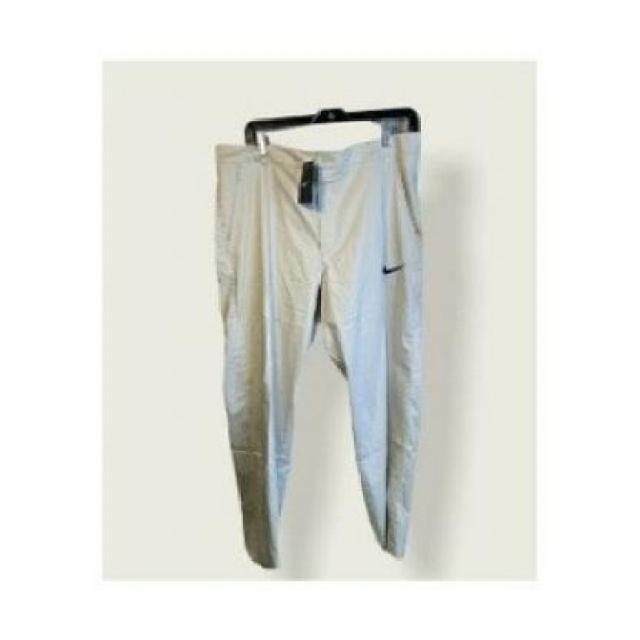Nike: (380, 262, 402, 273)
